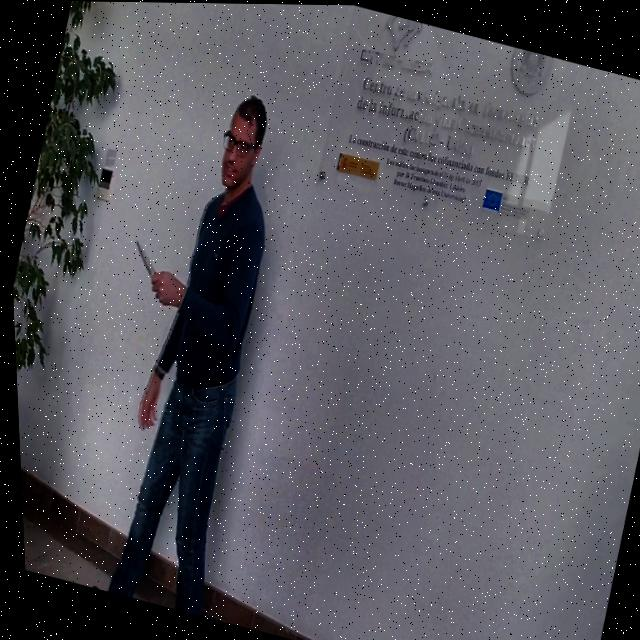knife: (122, 226, 162, 276)
